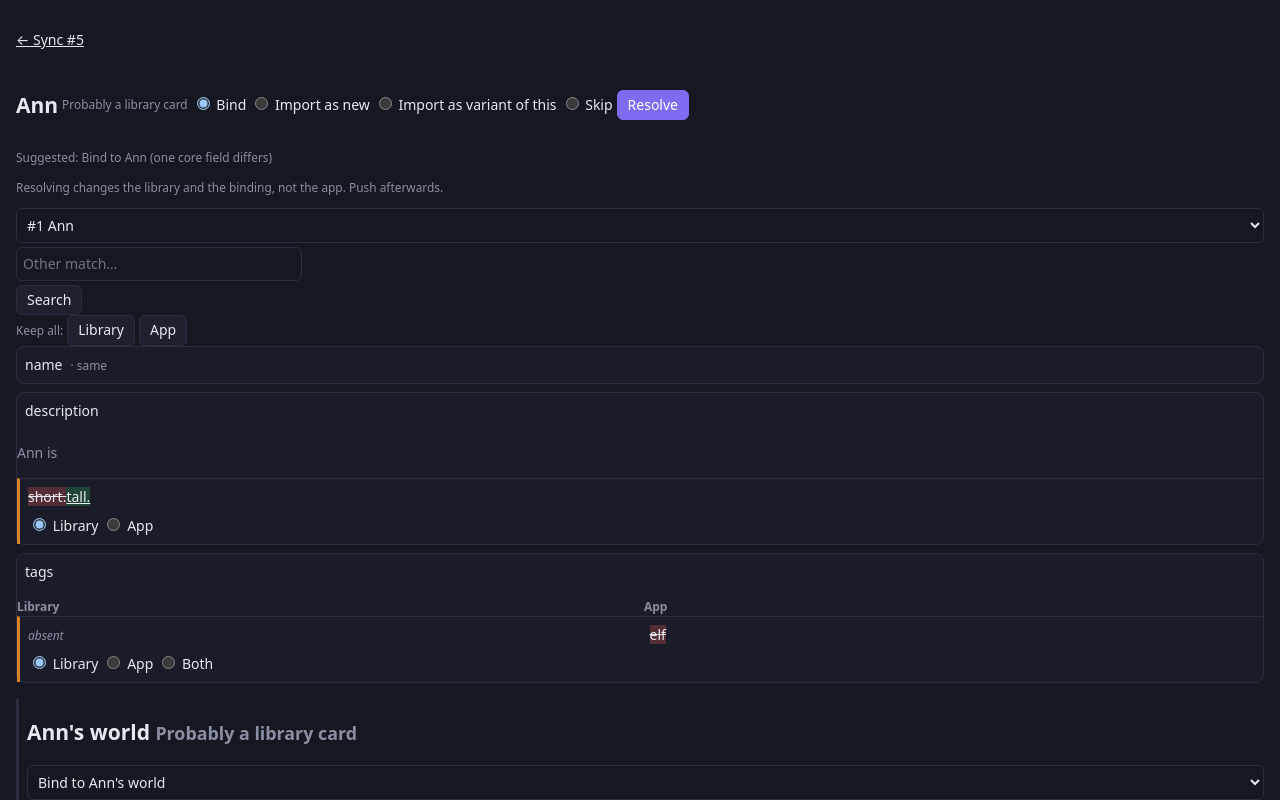
a stale resolve reloads the comparison
Step 1. Click the button "Resolve" → (653, 105), box [617,90,689,120]
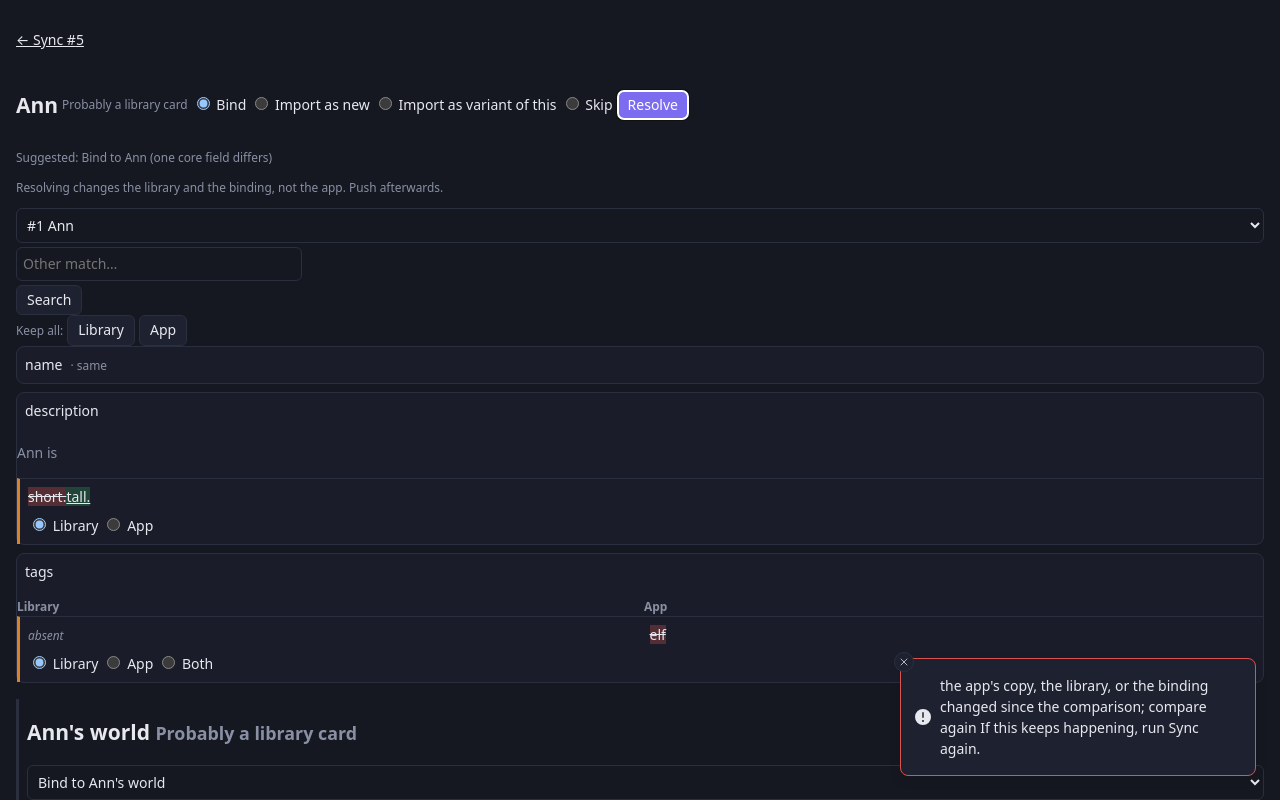
expect the text "compare again" is shown: met, box [940,676,1208,758]
